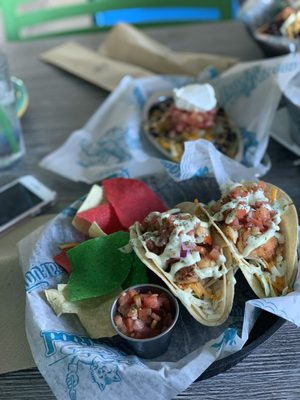sushi: (130, 201, 236, 327), (111, 283, 180, 359)
